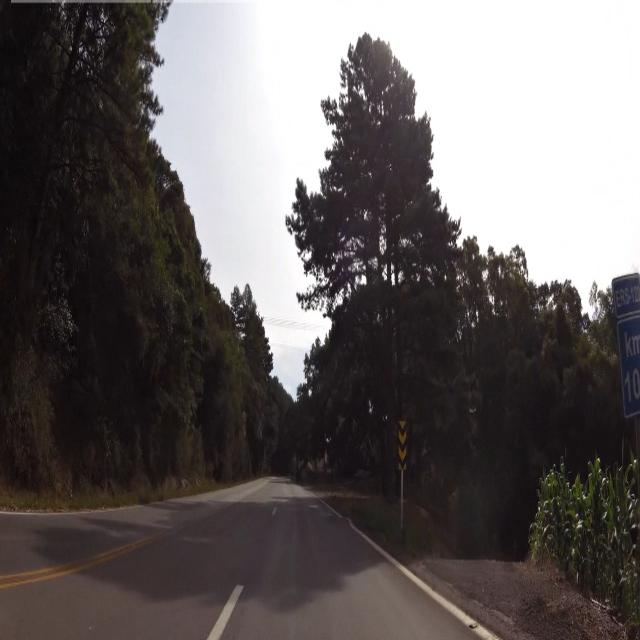MP: (397, 419, 407, 472)
RQ: (609, 274, 640, 442)
